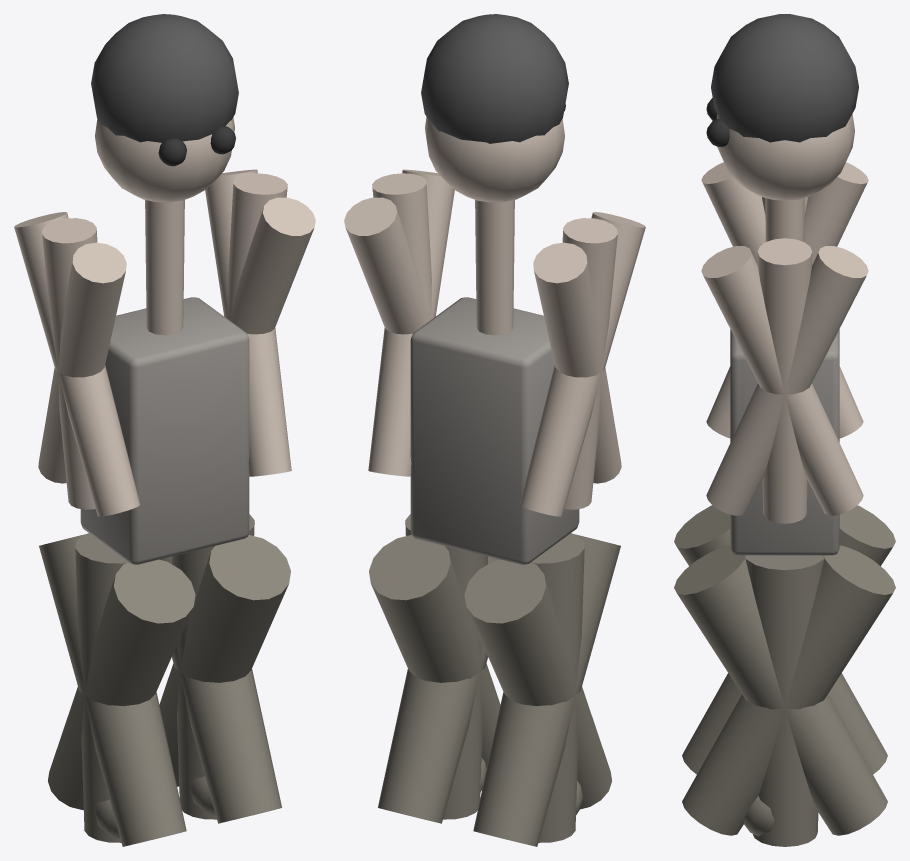
The model's file is npc_3.glb.
3 renders of one model, left to right at view 1: azimuth 30°, elevation 25°; view 2: azimuth 150°, elevation 25°; view 3: azimuth 270°, elevation 25°, orthographic.
Visible parts, largest first — view 1: idle_torso, idle_hair, stepA_legL, stepB_legL, stepB_legR, stepA_legR, stepA_armL, stepB_armL, stepB_armR, stepA_armR, idle_head, idle_legL (+8 smaller); view 2: idle_torso, idle_hair, stepB_legL, stepA_legL, stepA_legR, stepB_legR, stepB_armL, stepA_armL, stepA_armR, idle_head, stepB_armR, idle_legL (+4 smaller); view 3: stepB_legR, stepA_legR, idle_hair, idle_legR, stepA_armR, stepB_armR, idle_armR, idle_torso, idle_head, stepA_legL, stepB_legL, stepA_armL (+4 smaller).
Part boxes in pixels (x1=…): idle_torso: x1=80, y1=297, x2=249, y2=564; idle_hair: x1=91, y1=14, x2=238, y2=142; stepA_legL: x1=48, y1=559, x2=195, y2=809; stepB_legL: x1=39, y1=533, x2=186, y2=846; stepB_legR: x1=159, y1=535, x2=290, y2=786; stepA_legR: x1=159, y1=556, x2=281, y2=823; stepA_armL: x1=14, y1=212, x2=140, y2=516; stepB_armL: x1=38, y1=242, x2=126, y2=483; stepB_armR: x1=205, y1=169, x2=291, y2=476; stepA_armR: x1=230, y1=197, x2=315, y2=334; idle_head: x1=95, y1=117, x2=234, y2=202; idle_legL: x1=75, y1=533, x2=129, y2=842; idle_torso: x1=410, y1=297, x2=579, y2=564; idle_hair: x1=421, y1=14, x2=568, y2=143; stepB_legL: x1=464, y1=559, x2=611, y2=809; stepA_legL: x1=473, y1=533, x2=620, y2=846; stepA_legR: x1=369, y1=535, x2=500, y2=768; stepB_legR: x1=378, y1=556, x2=500, y2=823; stepB_armL: x1=519, y1=212, x2=645, y2=516; stepA_armL: x1=533, y1=242, x2=621, y2=483; stepA_armR: x1=368, y1=169, x2=454, y2=476; idle_head: x1=425, y1=117, x2=564, y2=202; stepB_armR: x1=344, y1=197, x2=429, y2=334; idle_legL: x1=530, y1=533, x2=584, y2=842; stepB_legR: x1=674, y1=545, x2=887, y2=835; stepA_legR: x1=682, y1=545, x2=895, y2=835; idle_hair: x1=711, y1=14, x2=858, y2=142; idle_legR: x1=744, y1=555, x2=825, y2=846; stepA_armR: x1=701, y1=246, x2=863, y2=515; stepB_armR: x1=706, y1=246, x2=868, y2=515; idle_armR: x1=757, y1=238, x2=812, y2=523; idle_torso: x1=730, y1=329, x2=839, y2=555; idle_head: x1=716, y1=114, x2=854, y2=200; stepA_legL: x1=674, y1=505, x2=887, y2=774; stepB_legL: x1=682, y1=505, x2=895, y2=774; stepA_armL: x1=706, y1=162, x2=868, y2=438.
Size of the model in its own units: 0.7504 by 2.4 by 0.6094.
